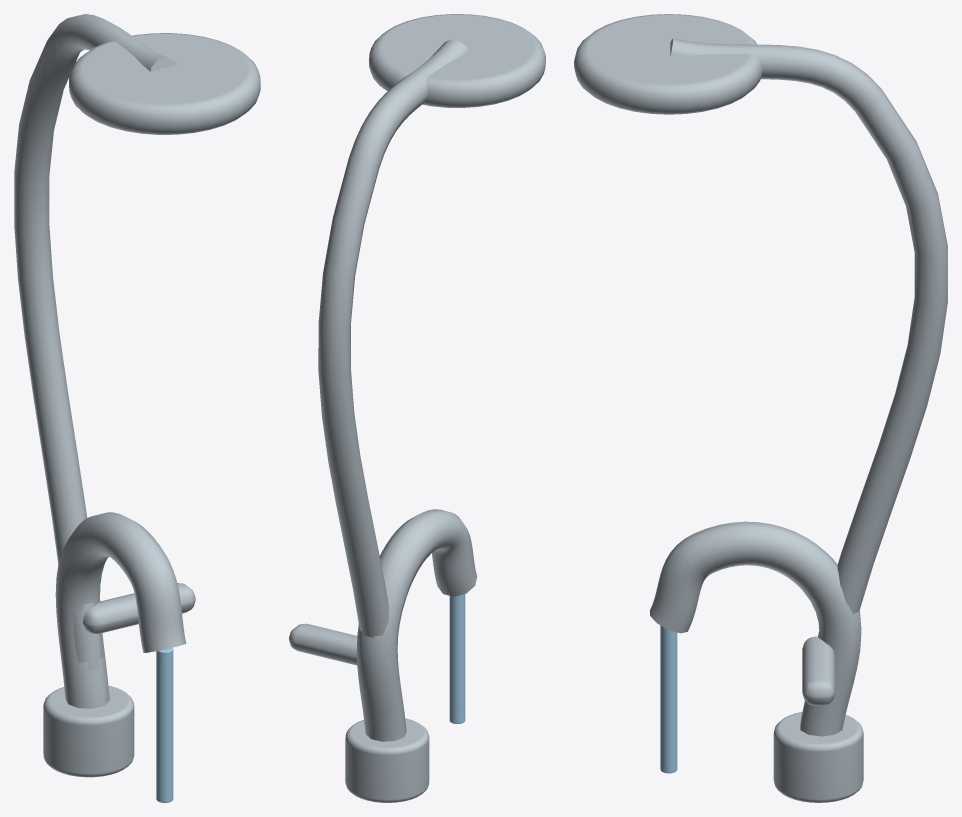
File: bathroomShowerTap.glb
3 renders of one model, left to right at view 1: azimuth 30°, elevation 25°; view 2: azimuth 150°, elevation 25°; view 3: azimuth 270°, elevation 25°, orthographic. The views are drawn at different scales.
Visible parts, largest first — view 1: Shower riser, Shower head, Curved tap, Tap base, Interaction water, Tap lever; view 2: Shower riser, Shower head, Curved tap, Tap base, Interaction water, Tap lever; view 3: Shower riser, Curved tap, Shower head, Tap base, Interaction water, Tap lever.
Boxes of the visible parts, x1=… form: Shower riser: x1=14, y1=14, x2=177, y2=671; Shower head: x1=69, y1=33, x2=260, y2=134; Curved tap: x1=55, y1=512, x2=186, y2=708; Tap base: x1=43, y1=685, x2=134, y2=777; Interaction water: x1=156, y1=647, x2=173, y2=802; Tap lever: x1=83, y1=583, x2=195, y2=633; Shower riser: x1=318, y1=39, x2=468, y2=637; Shower head: x1=369, y1=14, x2=545, y2=107; Curved tap: x1=356, y1=509, x2=477, y2=741; Tap base: x1=345, y1=718, x2=429, y2=802; Interaction water: x1=449, y1=594, x2=465, y2=723; Tap lever: x1=289, y1=623, x2=357, y2=665; Shower riser: x1=670, y1=38, x2=947, y2=637; Curved tap: x1=650, y1=521, x2=861, y2=736; Shower head: x1=574, y1=14, x2=762, y2=114; Tap base: x1=773, y1=712, x2=863, y2=802; Interaction water: x1=660, y1=625, x2=677, y2=773; Tap lever: x1=802, y1=636, x2=834, y2=705.
Bounding box in the file's own units: 0.425 × 1.65 × 0.7489.
